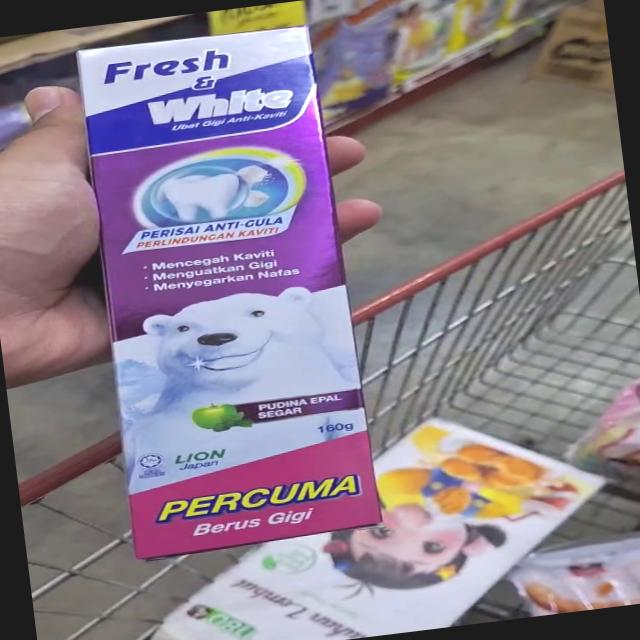Tisu: (141, 514, 509, 640), (405, 392, 617, 552)
Ubat Gigi: (67, 19, 386, 560)
